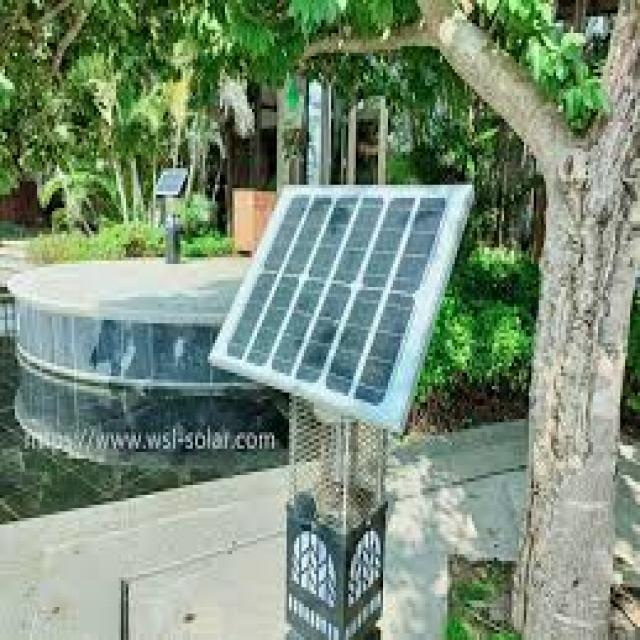faulty: (224, 198, 445, 412)
